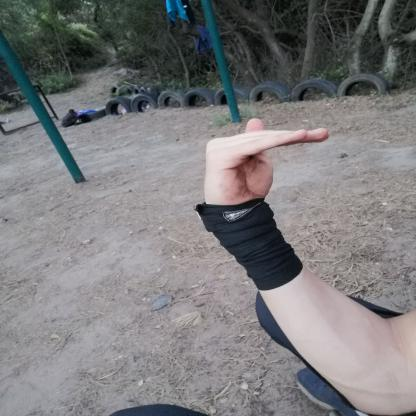KHAA: (188, 107, 340, 212)
